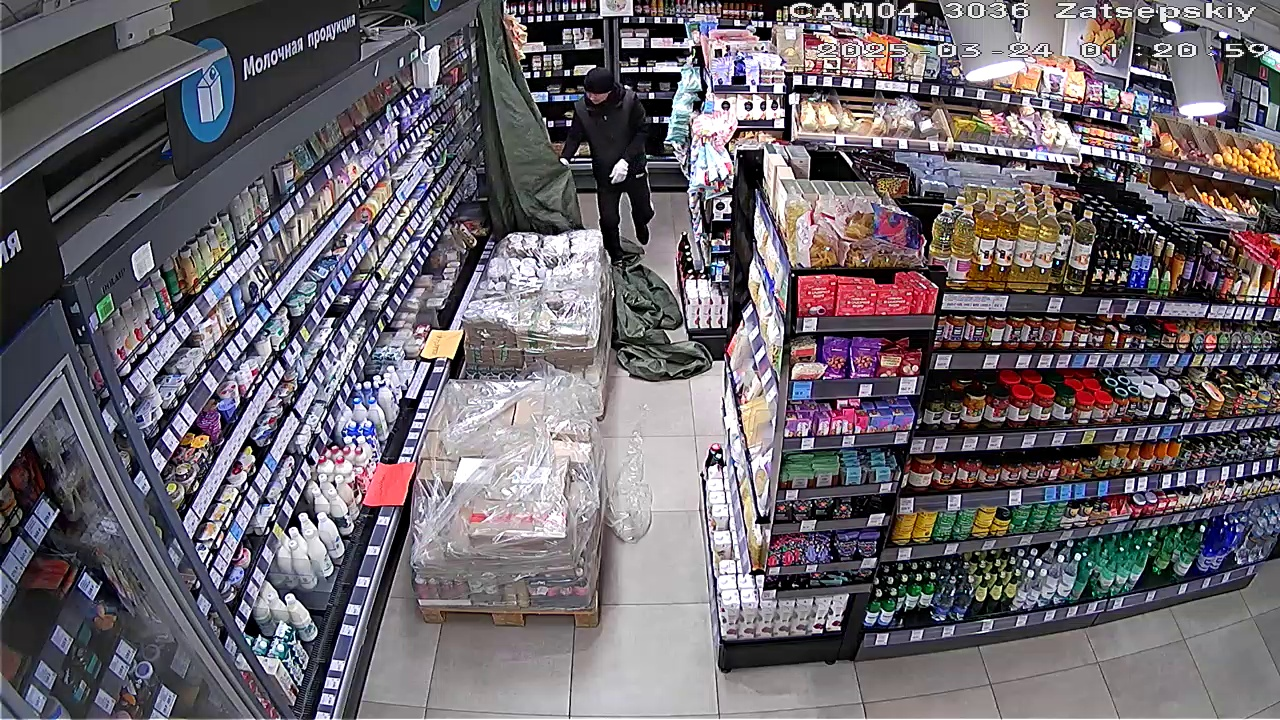Human: (551, 68, 665, 242)
pallet: (401, 370, 603, 628), (461, 228, 609, 380)
